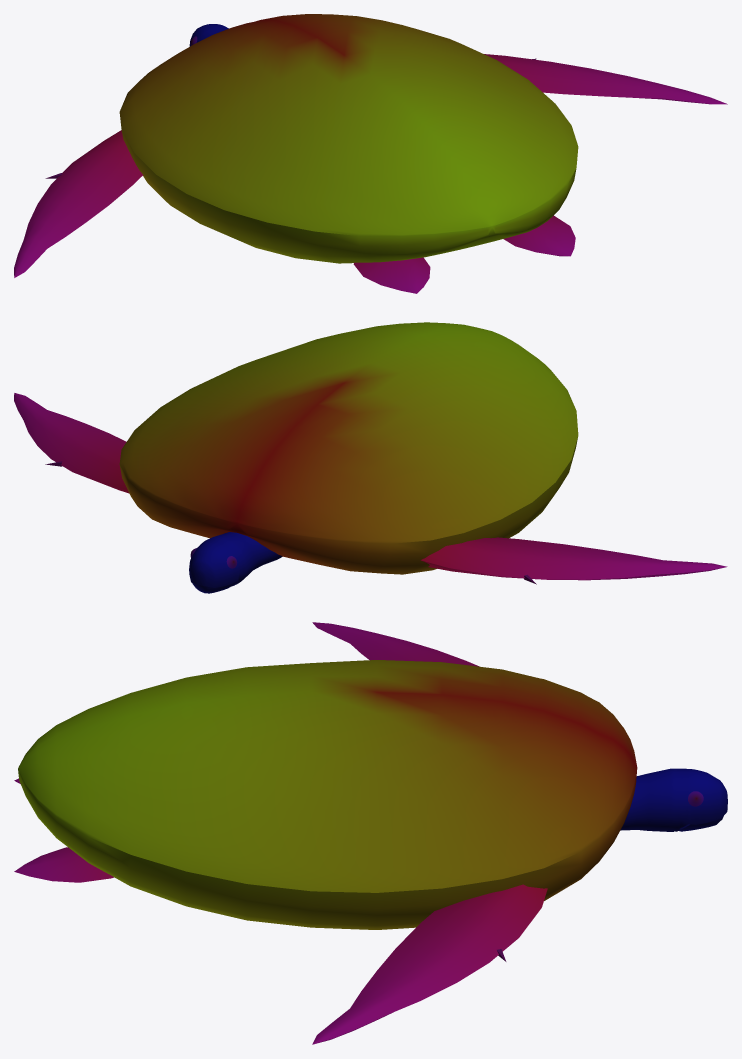
File: sea_turtle_green_game.glb
3 views of the same model, one above another, from view 1: azimuth 30°, elevation 25°; view 2: azimuth 150°, elevation 25°; view 3: azimuth 270°, elevation 25° (orthographic). The views are drawn at different scales.
Visible parts, largest first — view 1: sea_turtle_green_game; view 2: sea_turtle_green_game; view 3: sea_turtle_green_game.
Part boxes in pixels (<box>): sea_turtle_green_game: <box>14,14,727,293</box>; sea_turtle_green_game: <box>14,322,727,593</box>; sea_turtle_green_game: <box>14,622,727,1044</box>.
Size of the model in its own units: 1.78 by 0.3113 by 1.27.
